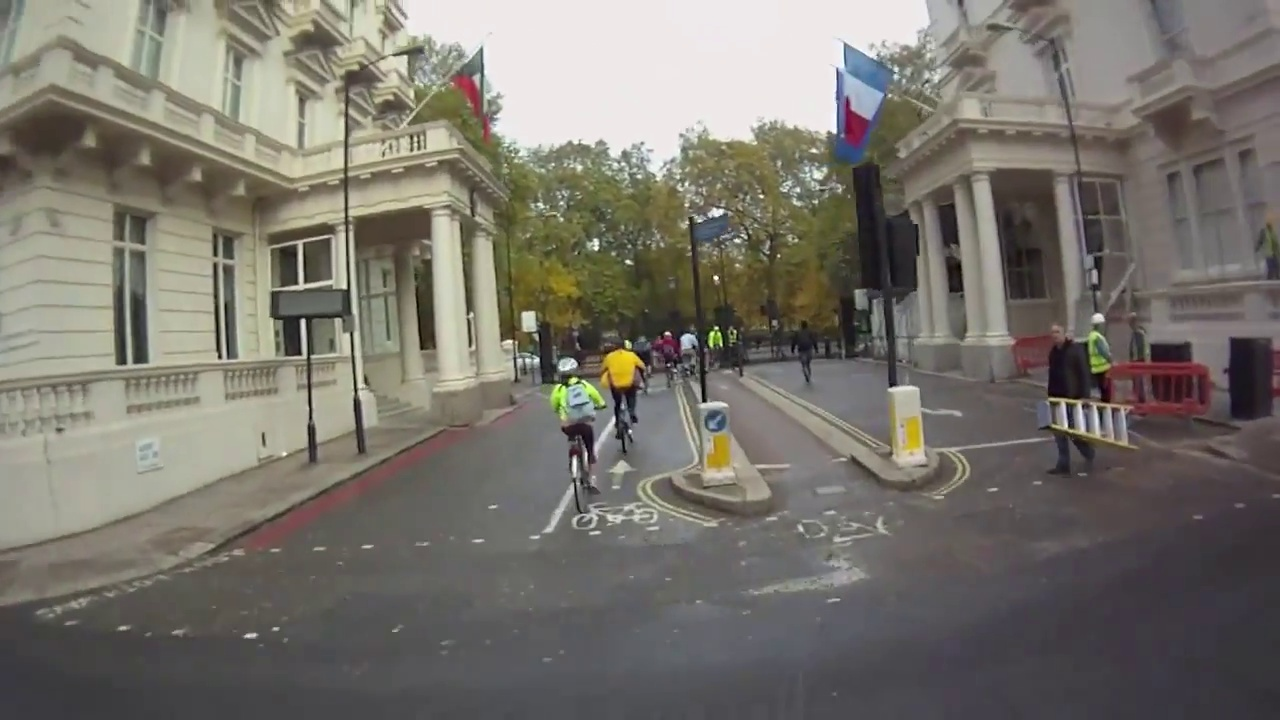cyclist_back: (546, 358, 614, 527), (600, 331, 648, 461)
